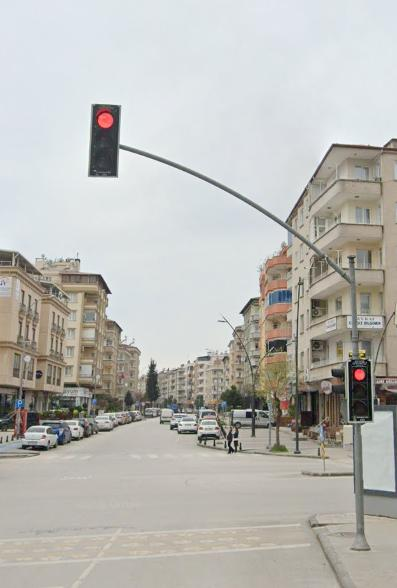redlight: (89, 100, 120, 180), (345, 355, 374, 422)
